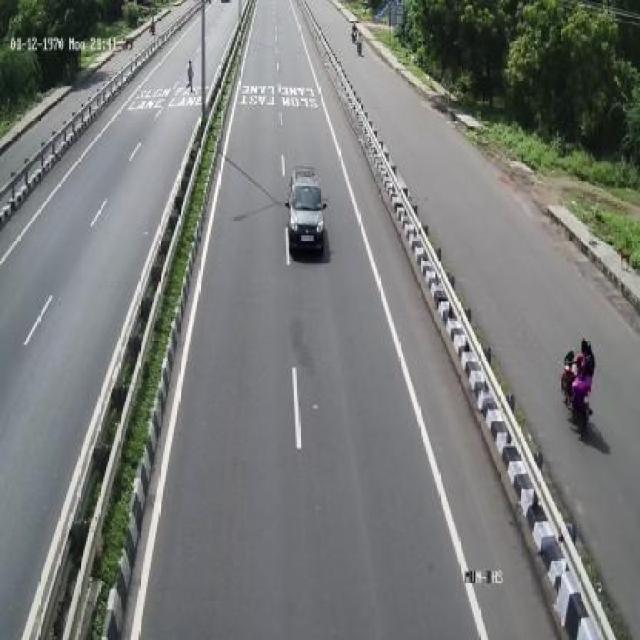car: (286, 158, 331, 260)
